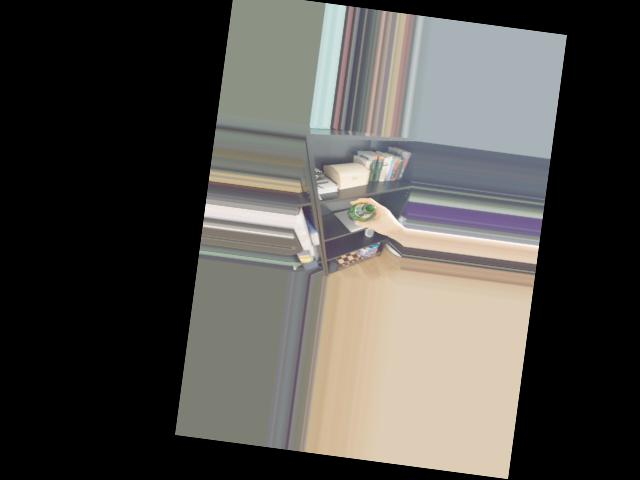beer: (346, 201, 376, 224)
